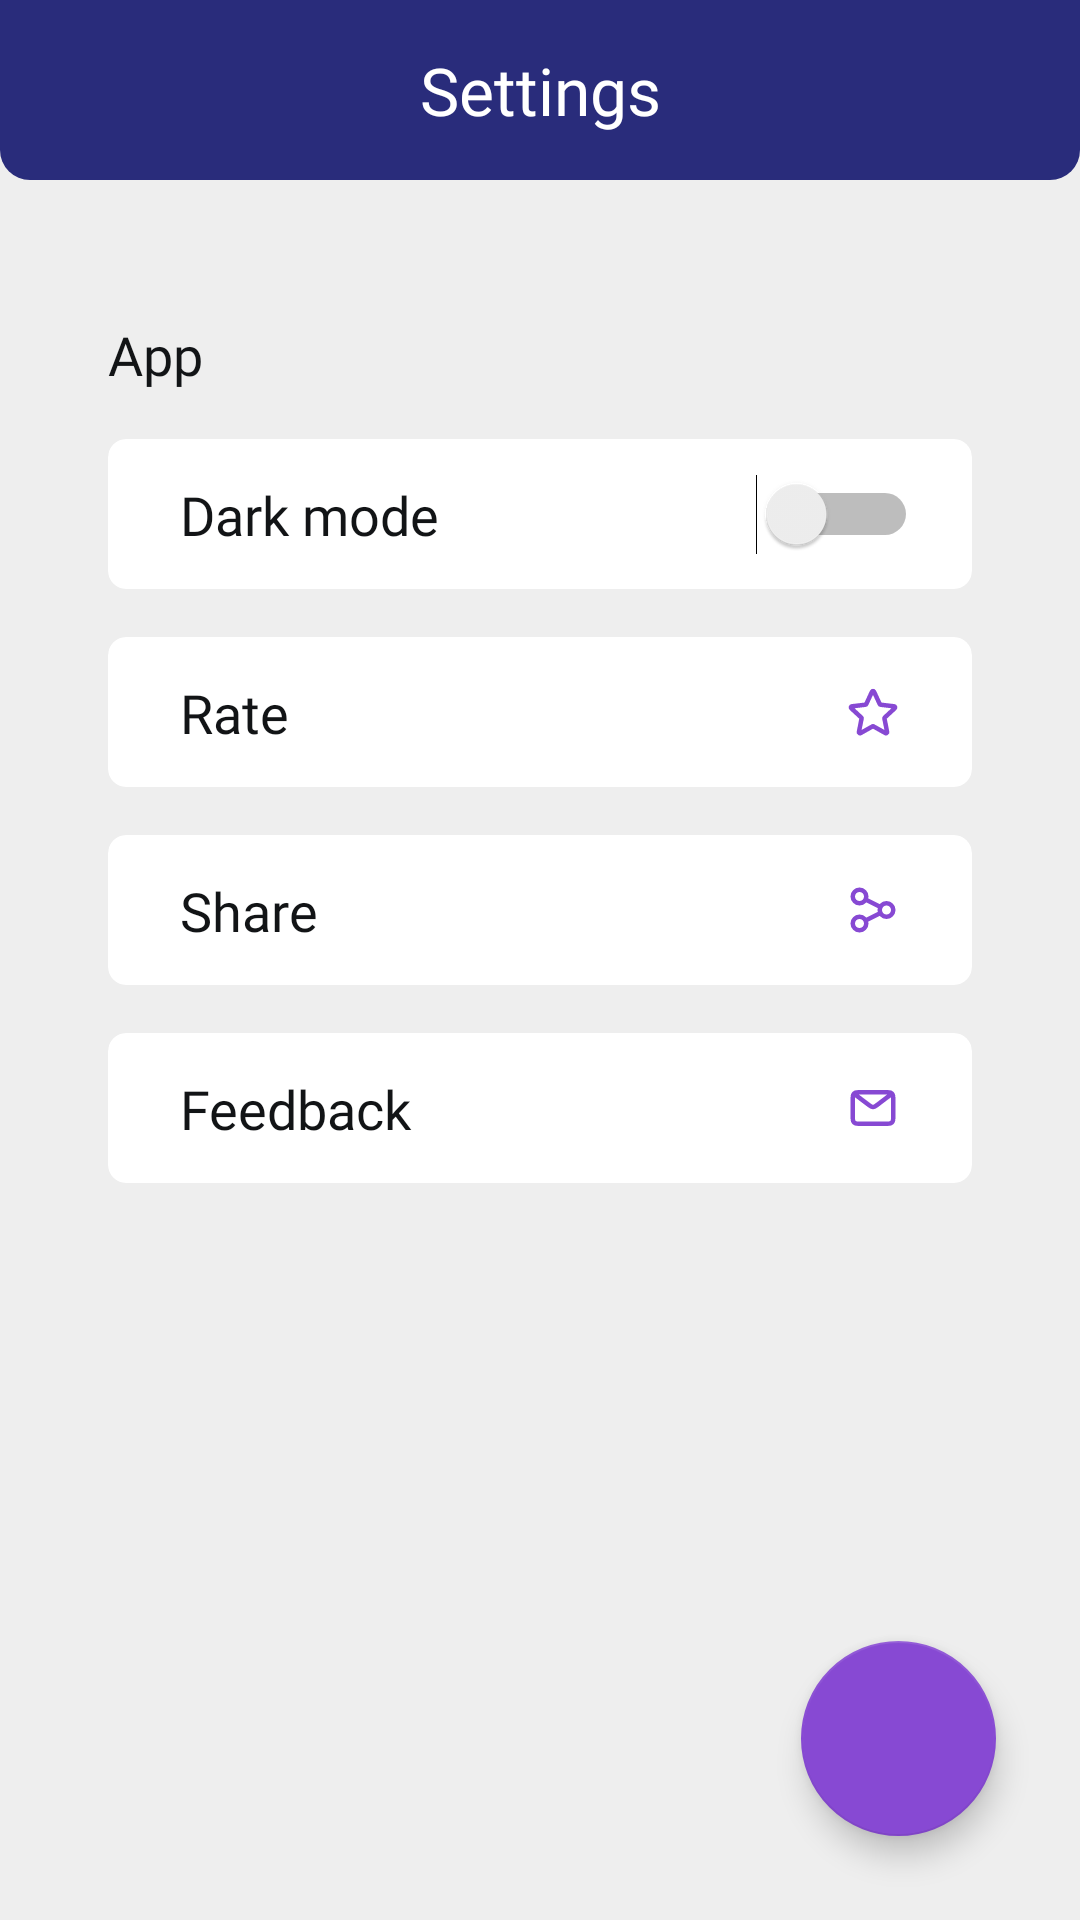

Icons on this 1080x1920 Android screen, each with the point to tap as (x=x, y=y):
feedback: (x=873, y=1108)
